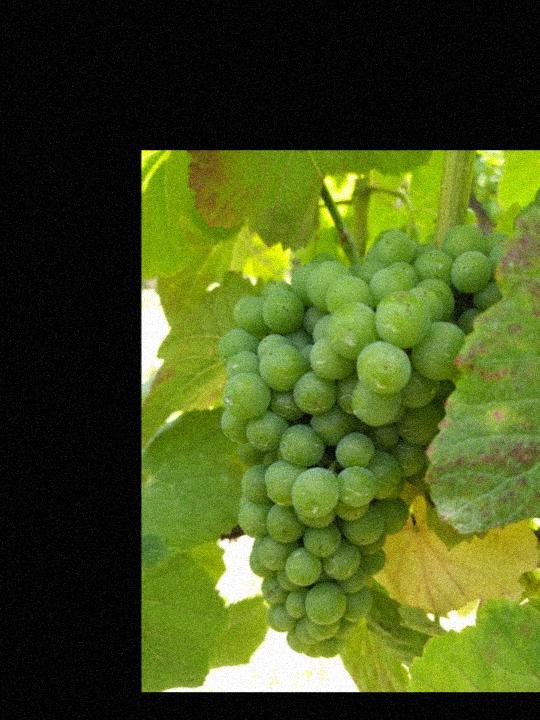grape: (217, 227, 516, 661)
